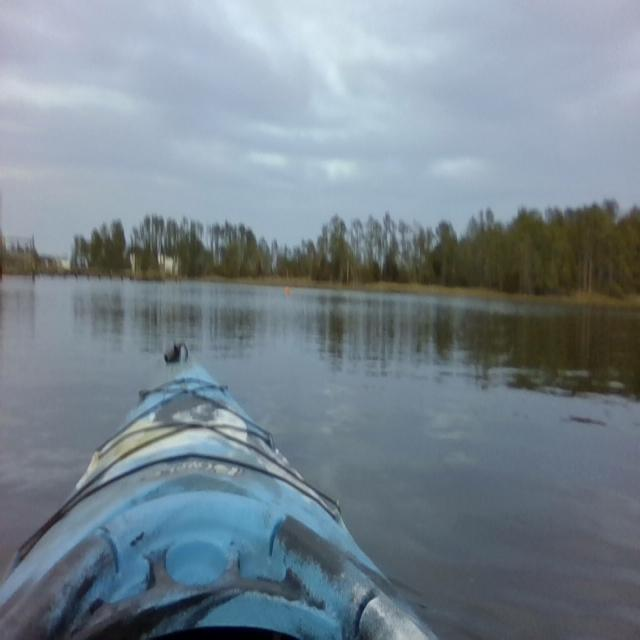Buoy: (284, 280, 294, 300)
